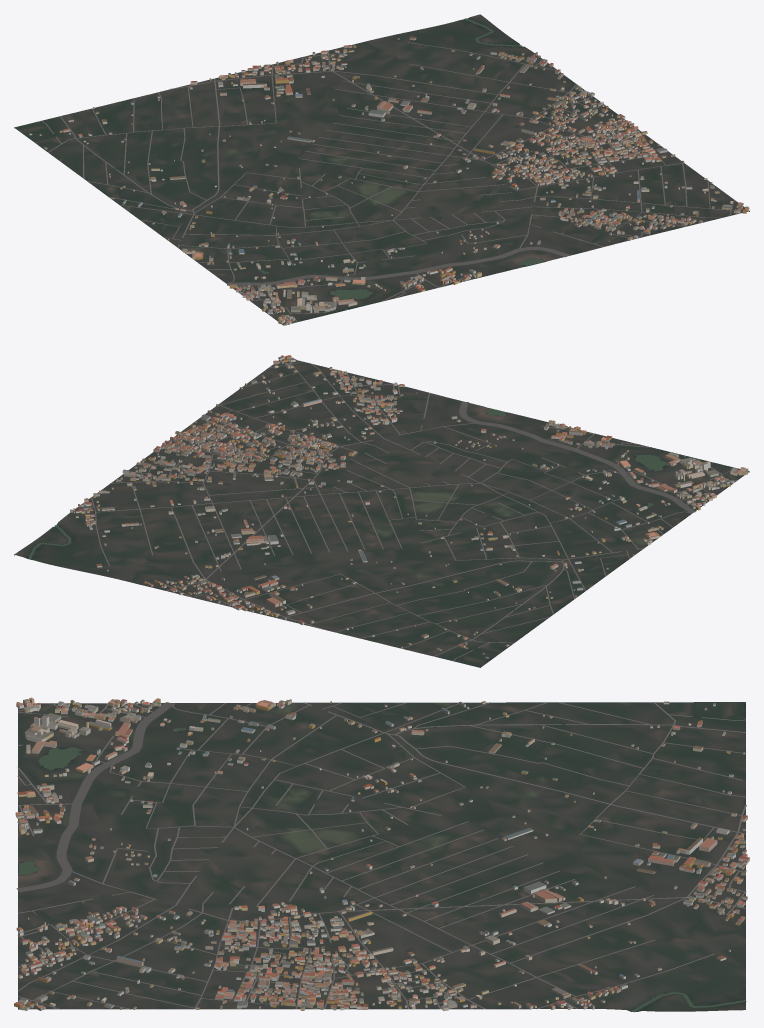
3 renders of one model, top to bottom at view 1: azimuth 30°, elevation 25°; view 2: azimuth 150°, elevation 25°; view 3: azimuth 270°, elevation 25°, orthographic. The views are drawn at different scales.
Parts seen in each view (by area): view 1: ground, buildings, roads, water; view 2: ground, buildings, roads, water; view 3: ground, buildings, roads, water.
Boxes of the visible parts, x1,y1,x2,y2 form: ground: (14,14,749,325); buildings: (29,36,749,325); roads: (41,42,749,325); water: (260,18,543,299); ground: (14,357,749,667); buildings: (70,355,748,658); roads: (76,358,749,661); water: (28,408,668,559); ground: (18,702,745,1011); buildings: (14,697,749,1011); roads: (16,702,746,1009); water: (18,728,746,1012).
Size of the model in its own units: 1415 by 26.04 by 1417.
